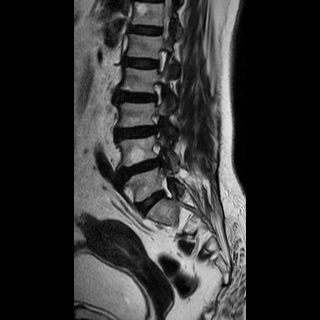LFS0: (149, 43, 171, 78), (146, 78, 168, 109)
